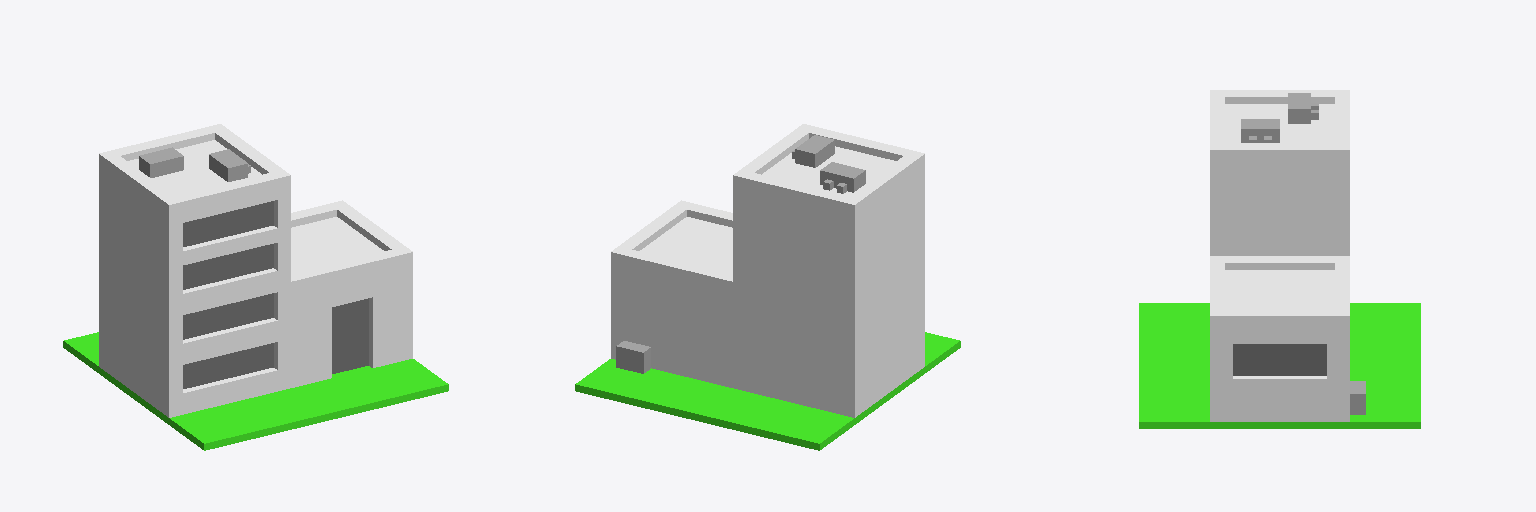
3 views of the same model, side by side, from view 1: azimuth 30°, elevation 25°; view 2: azimuth 150°, elevation 25°; view 3: azimuth 270°, elevation 25° (orthographic).
Visible parts, largest first — view 1: building_1; view 2: building_1; view 3: building_1.
Part boxes in pixels (x1,y1,x2,y2): building_1: (63, 124, 448, 450); building_1: (575, 124, 960, 450); building_1: (1139, 90, 1420, 428).
Size of the model in its own units: 9 by 8 by 9.